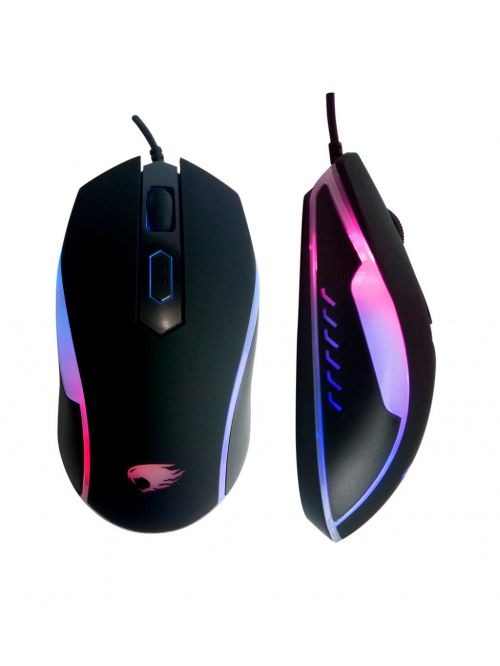mouse: (57, 137, 262, 524), (294, 145, 432, 551)
